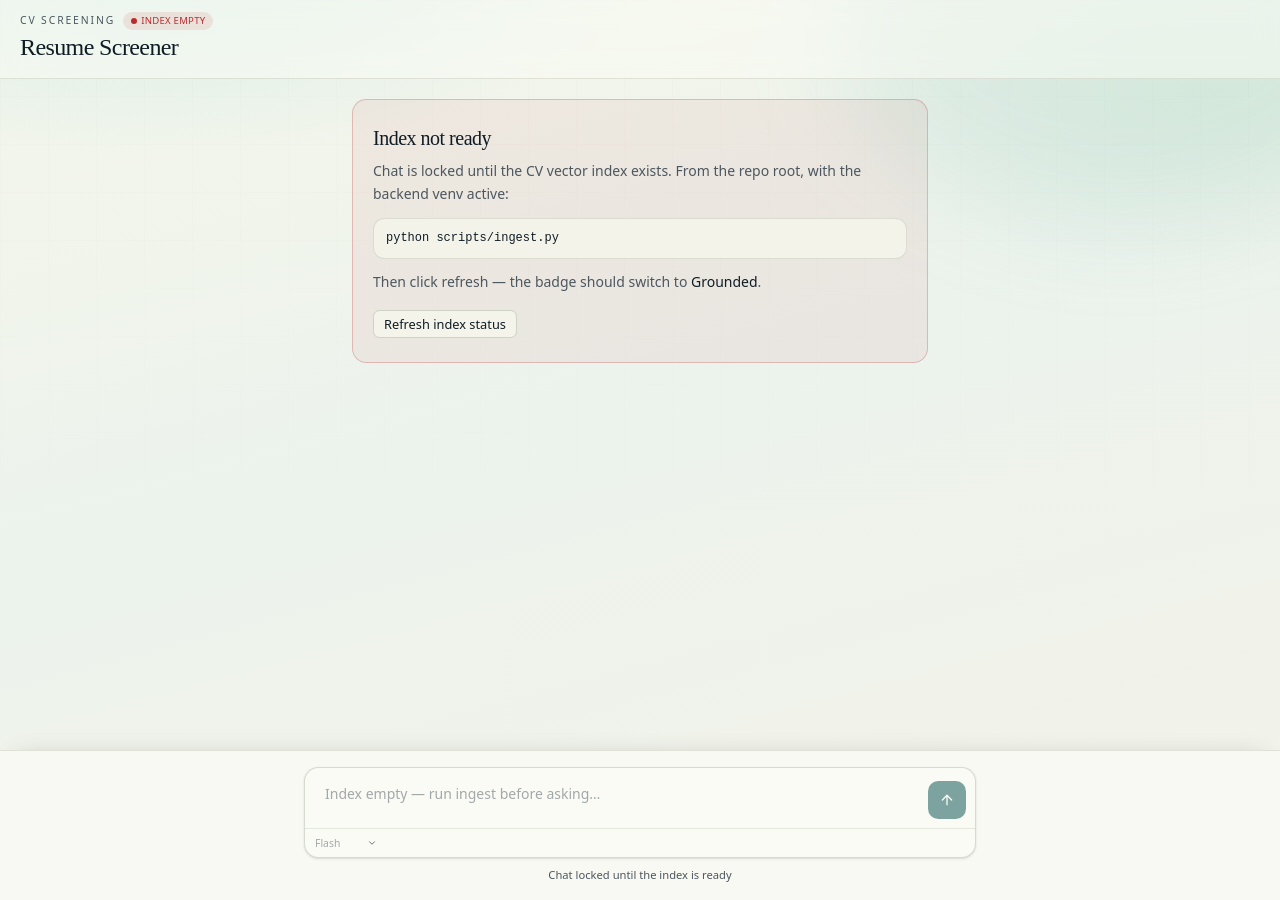
Test: ChatPanel › locks chat and shows ingest CTA when index is empty
The width and height of the screenshot is (1280, 900).
Expected: the text "Index empty" is shown, [123, 12, 213, 30]
Expected: the text "Index not ready" is shown, [373, 127, 491, 149]
Click the button "Refresh index status".
click(445, 324)  # box [373, 310, 517, 338]
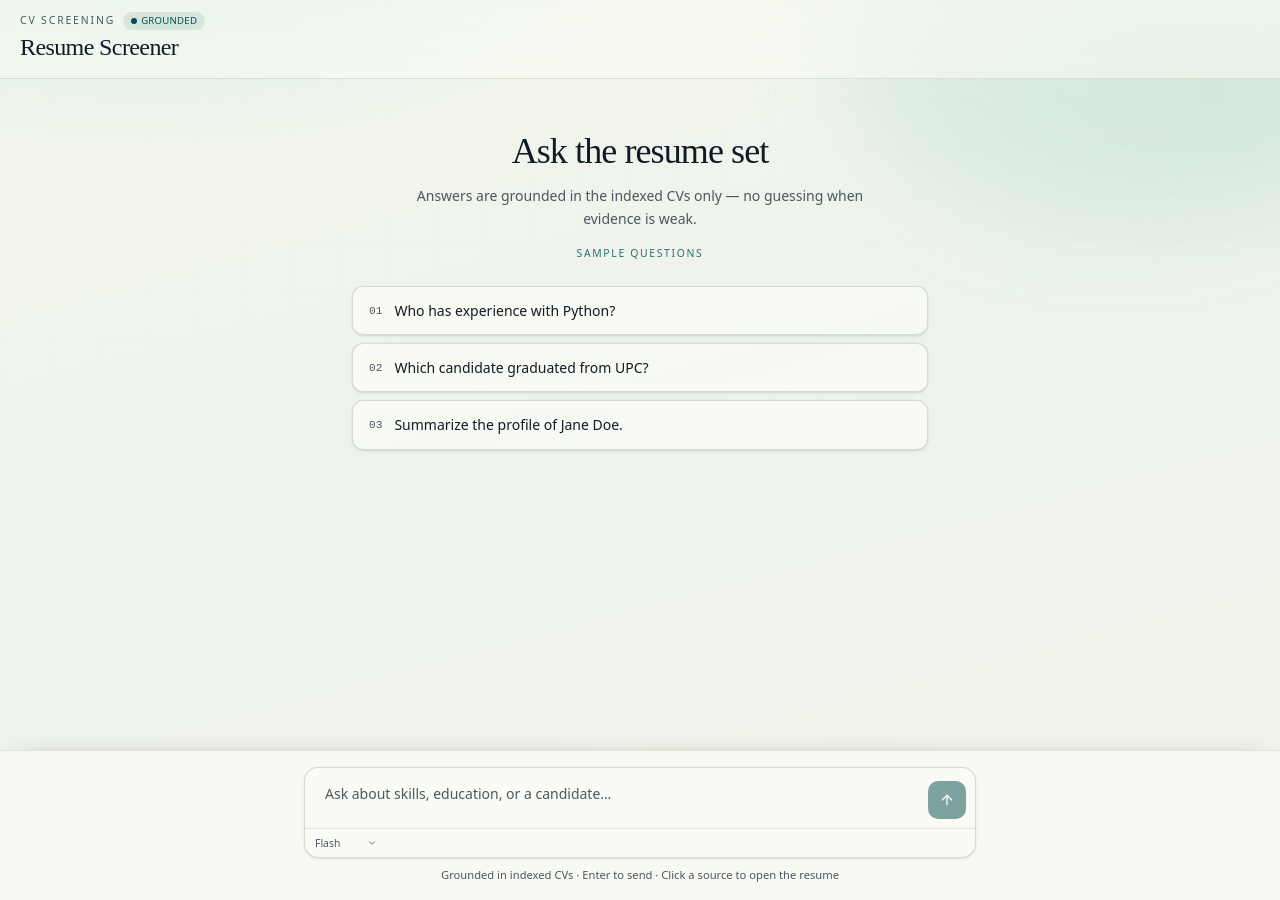
Expected: the text "Grounded" is shown, [123, 12, 205, 30]
Expected: the text "Ask the resume set" is shown, [512, 131, 768, 171]
Expected: the text box named "Chat question" is enabled, [313, 776, 919, 820]
